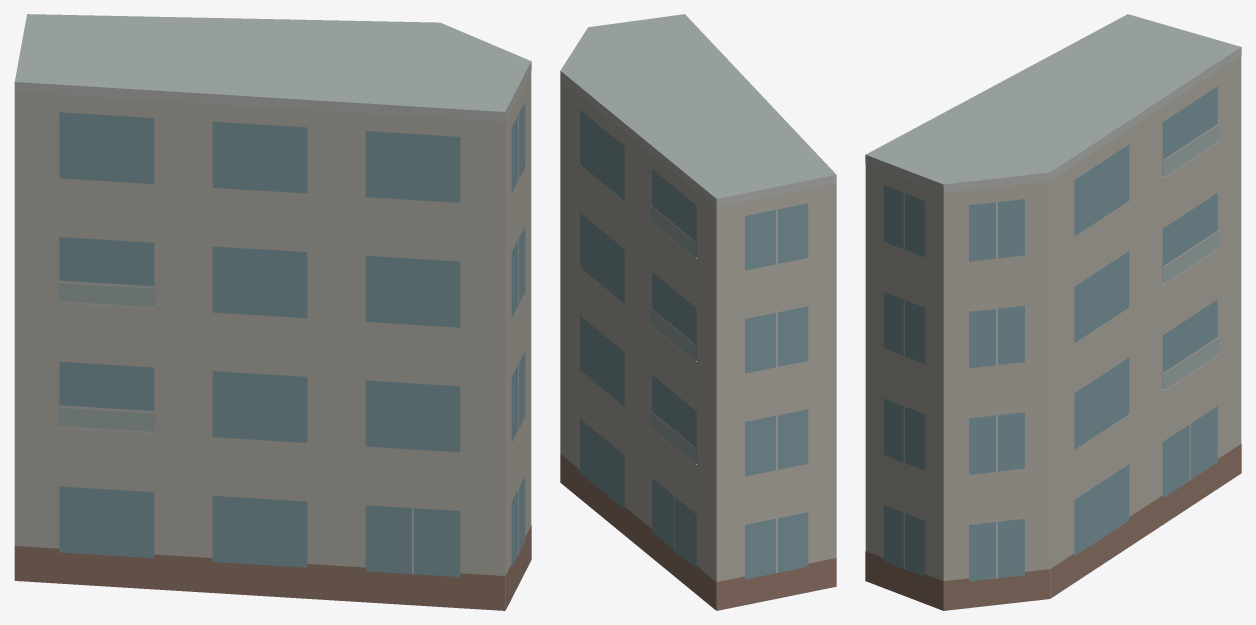
Rendered from survey-upis-32799765.glb.
3 views of the same model, side by side, from view 1: azimuth 30°, elevation 25°; view 2: azimuth 150°, elevation 25°; view 3: azimuth 270°, elevation 25° (orthographic). The views are drawn at different scales.
Parts seen in each view (by area): view 1: survey-upis-32799765.tmp; view 2: survey-upis-32799765.tmp; view 3: survey-upis-32799765.tmp.
Part boxes in pixels (x1,y1,x2,y2): survey-upis-32799765.tmp: (14,14,531,610); survey-upis-32799765.tmp: (560,14,836,610); survey-upis-32799765.tmp: (865,14,1241,610).
Size of the model in its own units: 10.43 by 12.15 by 9.72.
